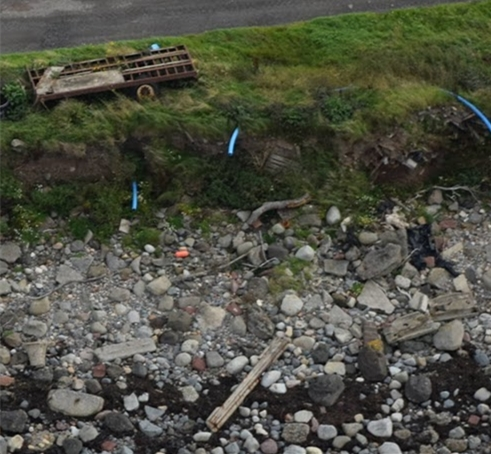cuboid: (18, 38, 206, 110)
straight_bar: (197, 331, 293, 435)
tube: (446, 85, 491, 129), (122, 174, 153, 215), (215, 122, 246, 157)
white_in_green: (156, 231, 204, 275), (136, 28, 174, 61)
